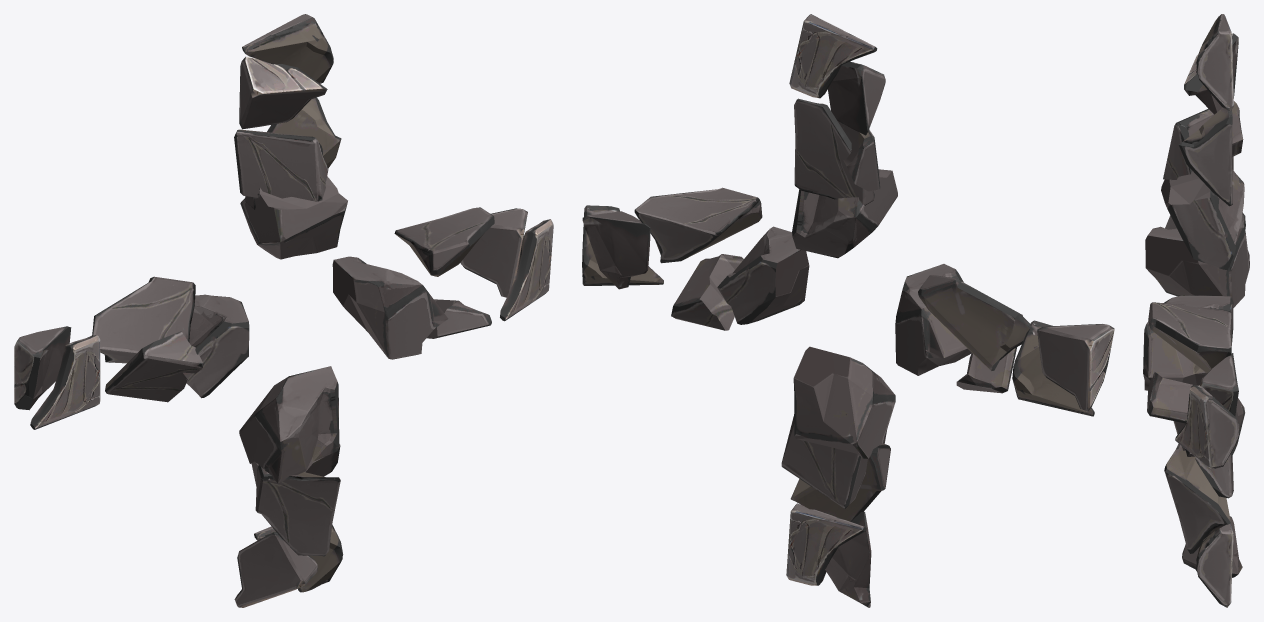
Rendered from trap_044_duruin.glb.
3 views of the same model, side by side, from view 1: azimuth 30°, elevation 25°; view 2: azimuth 150°, elevation 25°; view 3: azimuth 270°, elevation 25° (orthographic).
Visible parts, largest first — view 1: U1, R2, L1, D1; view 2: L1, D1, U1, R2; view 3: R2, D1, L1, U1.
Part boxes in pixels (x1,y1,x2,y2): U1: (14,276,249,429); R2: (234,14,347,259); L1: (234,366,343,607); D1: (332,207,553,359); L1: (781,346,895,607); D1: (582,187,809,330); U1: (895,264,1114,416); R2: (789,14,897,258); R2: (1161,14,1244,270); D1: (1143,295,1239,468); L1: (1164,398,1245,607); U1: (1145,156,1249,307).
Bounding box in the file's own units: 4.66 × 4.89 × 0.8253.
1 material, 1 textured.
